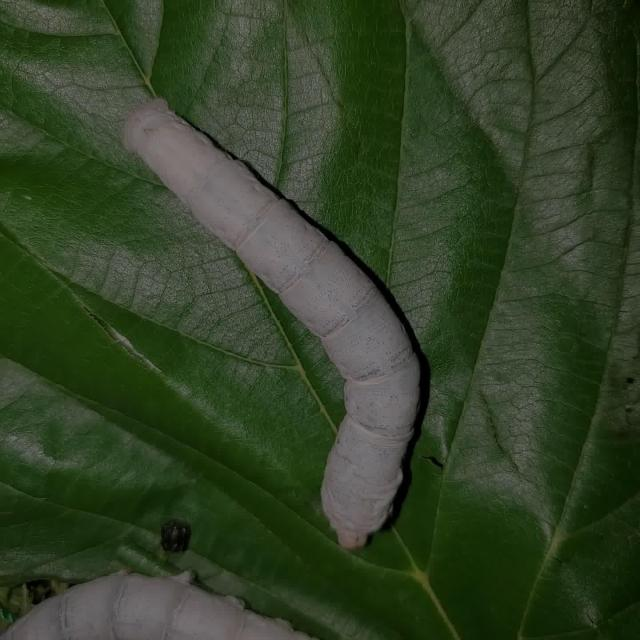Healthy: (98, 46, 462, 568)
